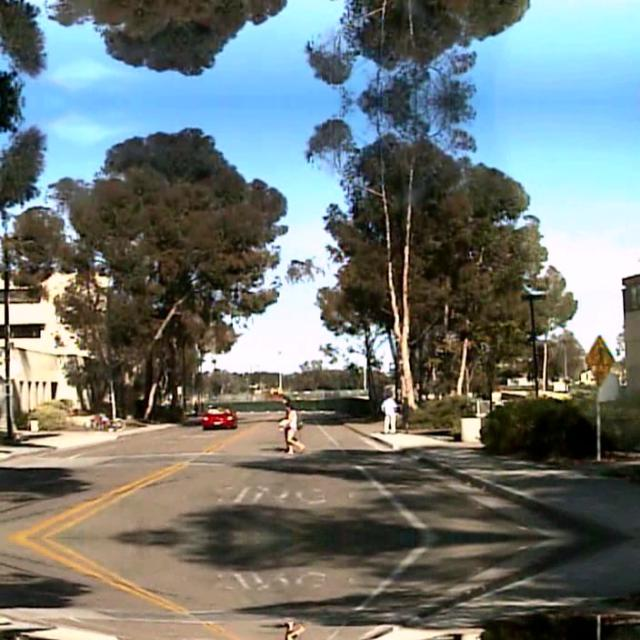pedestrianCrossing: (584, 334, 614, 384)
